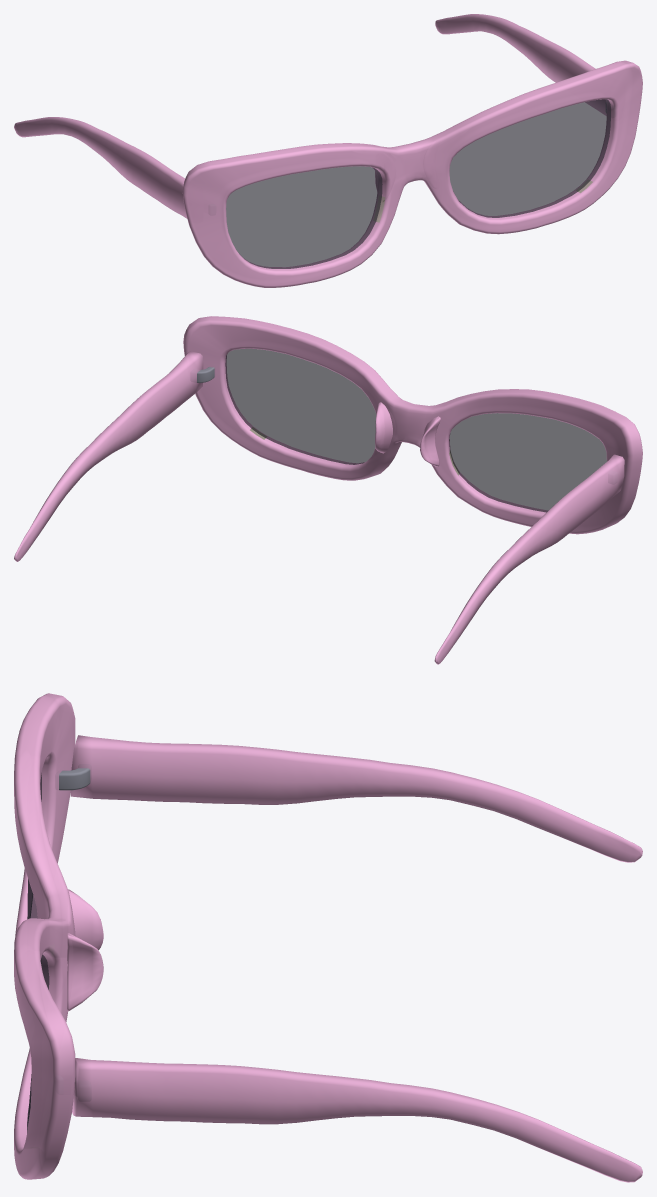
The model's file is petal.glb.
3 renders of one model, top to bottom at view 1: azimuth 30°, elevation 25°; view 2: azimuth 150°, elevation 25°; view 3: azimuth 270°, elevation 25°, orthographic. The views are drawn at different scales.
Parts seen in each view (by area): view 1: model1_.003; view 2: model1_.003; view 3: model1_.003.
Boxes of the visible parts, <box> form: model1_.003: <box>14,14,642,287</box>; model1_.003: <box>14,316,642,664</box>; model1_.003: <box>14,693,642,1182</box>.
Bounding box in the file's own units: 2.26 × 0.6435 × 1.72.
